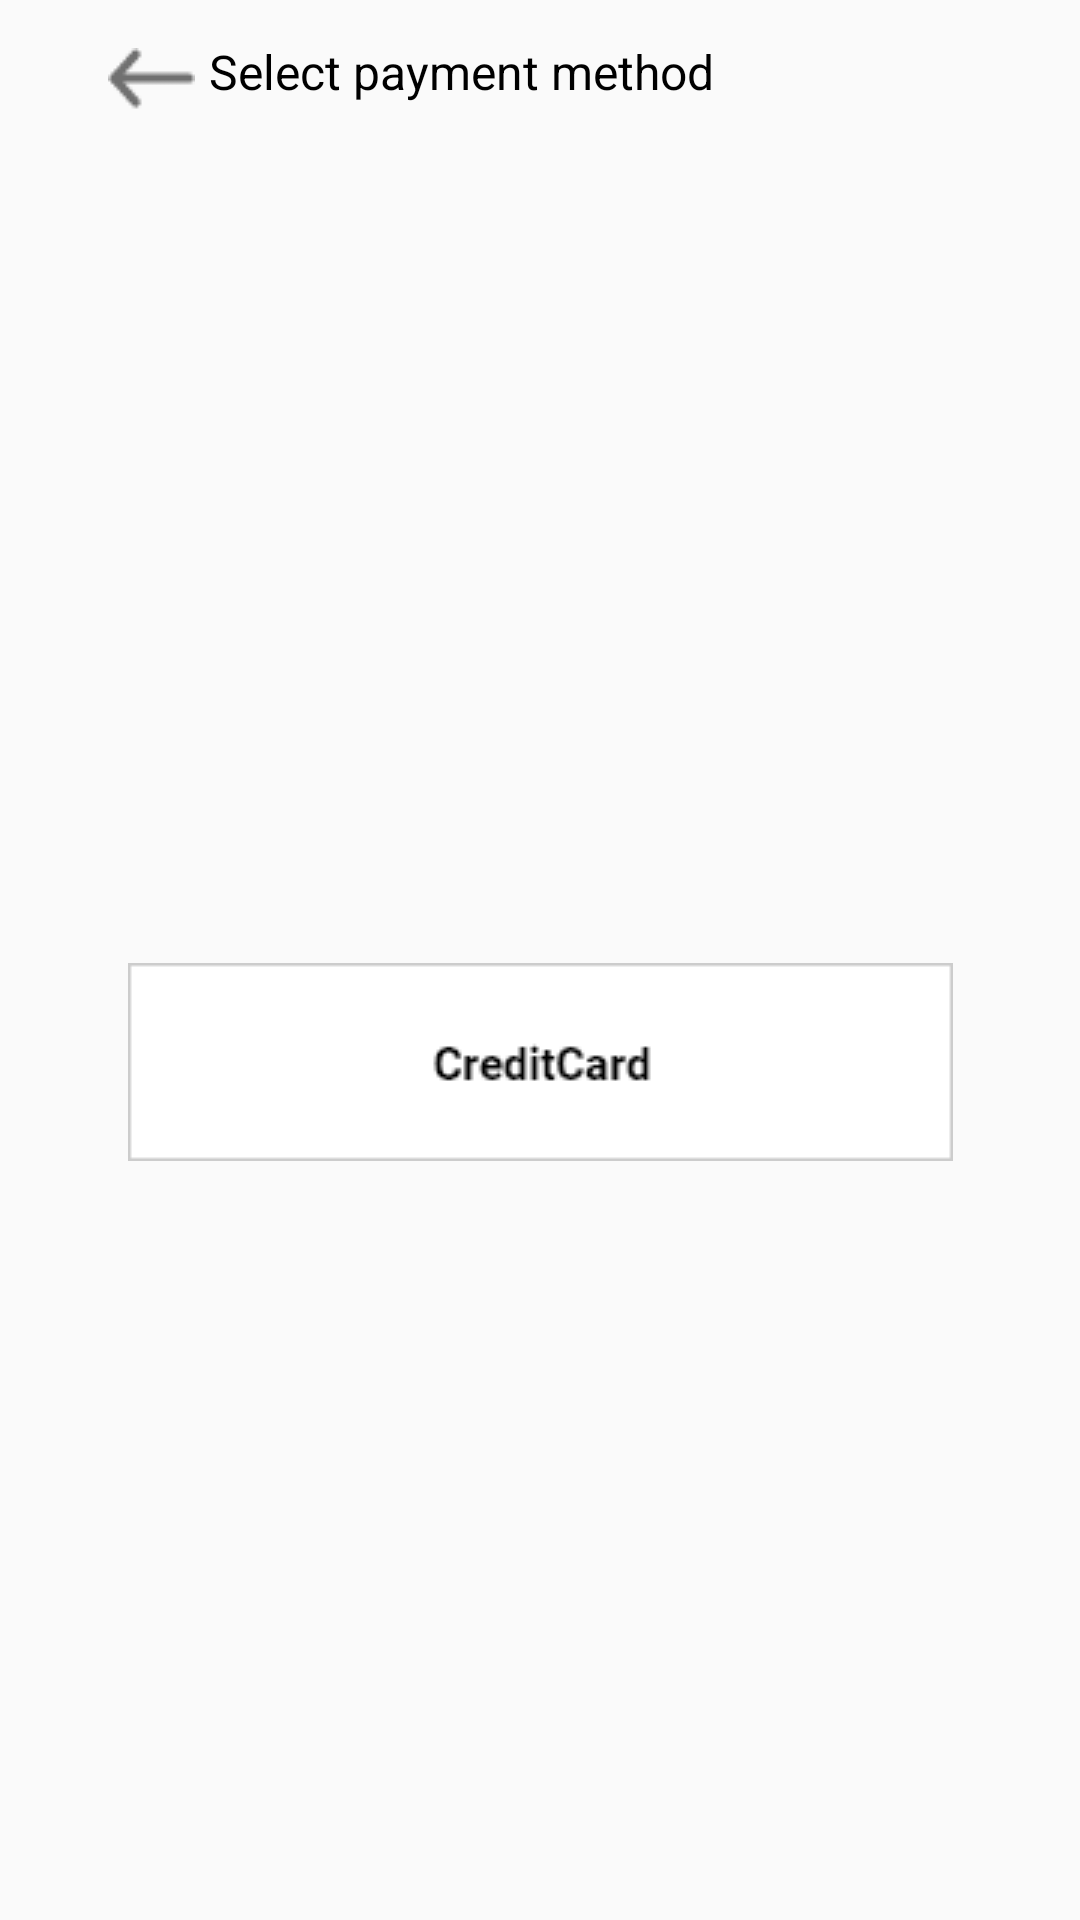

Icons on this 1080 x 1920 Android screen, each with its box as (x1, y1, x2, y2):
Arrow: (108, 48, 195, 109)
